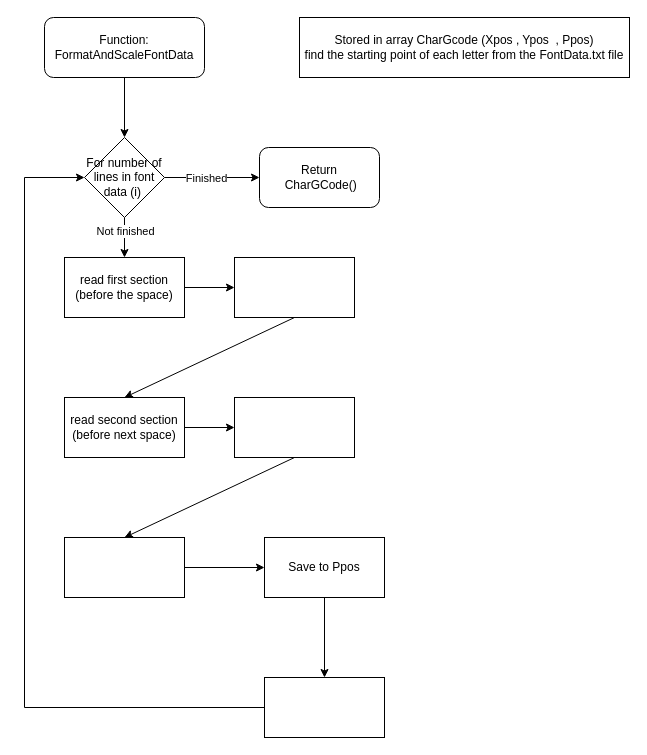
The diagram is 647 pixels wide and 755 high, and some of its shapes have lost their labels. The centre of each missing label's shape, as x and y in pixels:
CharGcode(i) = Xpos , Ypos, Ppos: the point at 324,707
read third section (before next space): the point at 124,567
Xpos = (number in first section) *fontsize/18: the point at 294,287
Ypos = (number in second section)*fontsize/18: the point at 294,427
